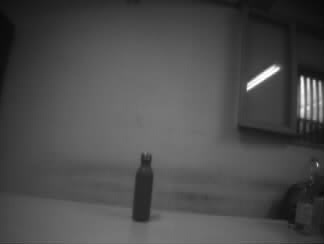Bottle: (295, 155, 320, 235), (132, 152, 153, 221)
